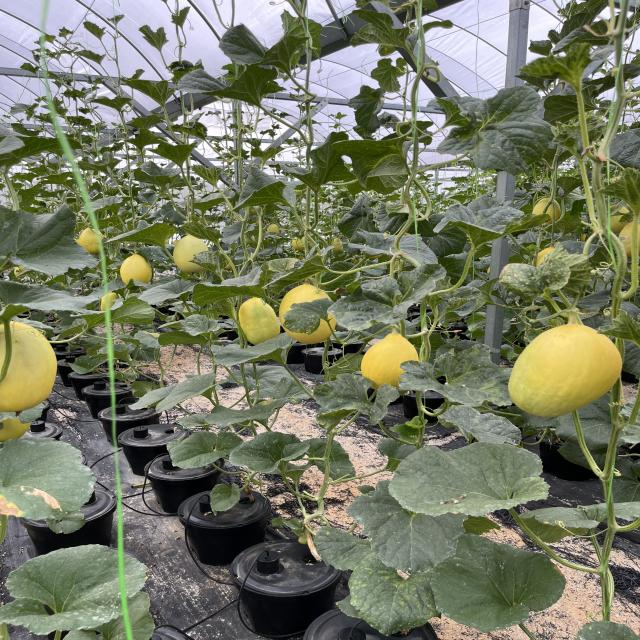CMV: (433, 406, 524, 446), (188, 246, 230, 276), (152, 141, 197, 166), (182, 220, 224, 242), (123, 128, 159, 149)
SLCV: (397, 344, 518, 413), (312, 374, 398, 424), (492, 257, 576, 301), (167, 121, 210, 138), (248, 145, 285, 162)
alternaria leaf blight: (0, 438, 95, 534), (528, 498, 640, 542), (206, 396, 294, 431), (106, 220, 182, 251)
downy mildew: (386, 439, 559, 522), (437, 84, 552, 175), (433, 198, 548, 244), (0, 283, 104, 325), (103, 221, 183, 251)
healthy: (4, 546, 120, 636), (0, 206, 98, 279), (331, 272, 444, 330), (330, 129, 413, 193), (178, 63, 286, 108), (348, 1, 414, 56), (229, 166, 300, 212), (160, 370, 228, 414), (311, 526, 372, 569), (204, 339, 295, 367), (162, 314, 219, 336), (133, 78, 175, 105)
powdery mildew: (423, 530, 566, 637), (228, 432, 308, 474), (168, 429, 238, 468), (210, 483, 241, 512)
